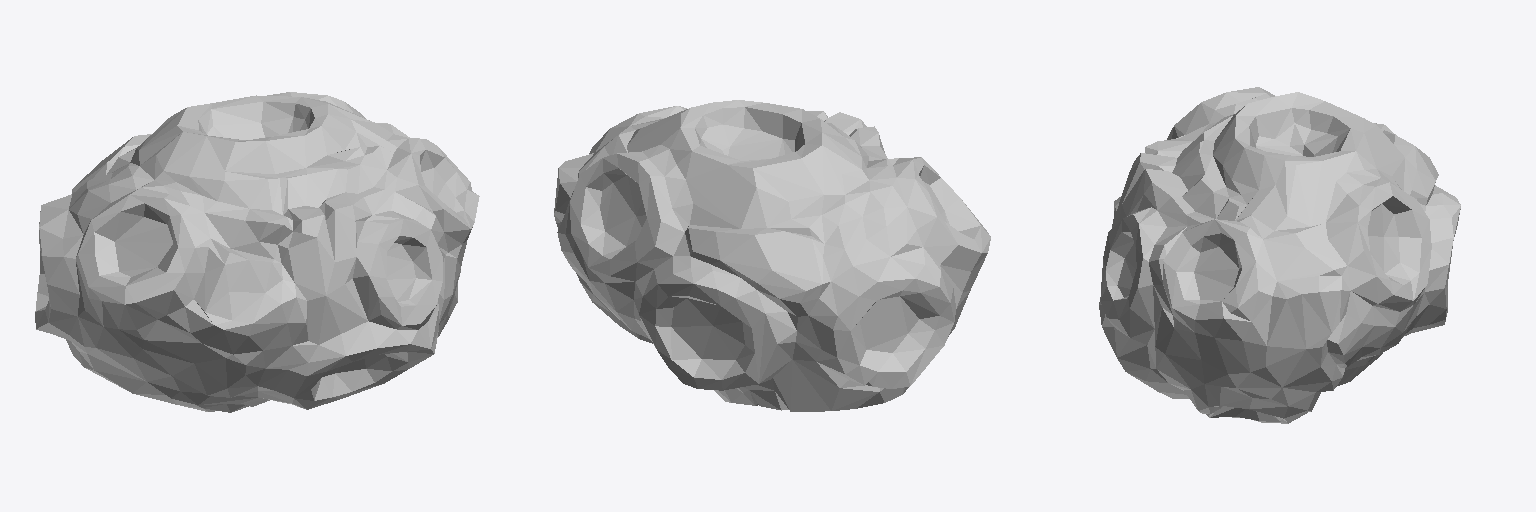
The model's file is boulder2OBJ.obj.
The picture shows the model from 3 angles: view 1: azimuth 30°, elevation 25°; view 2: azimuth 150°, elevation 25°; view 3: azimuth 270°, elevation 25°; orthographic projection.
Visible parts, largest first — view 1: node_id264_mesh_id265; view 2: node_id264_mesh_id265; view 3: node_id264_mesh_id265.
Part boxes in pixels (left/top/right/bottom): node_id264_mesh_id265: left=35, top=92, right=479, bottom=412; node_id264_mesh_id265: left=554, top=100, right=990, bottom=411; node_id264_mesh_id265: left=1099, top=87, right=1460, bottom=423.
Size of the model in its own units: 0.7849 by 0.5159 by 0.6288.